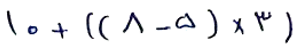character: (99, 15, 116, 43), (122, 11, 142, 33), (175, 12, 195, 31), (5, 10, 18, 38), (283, 11, 294, 44), (255, 11, 272, 32), (206, 8, 217, 40), (86, 13, 96, 42), (51, 23, 67, 39), (232, 17, 244, 34), (29, 25, 42, 39), (156, 24, 171, 34)
